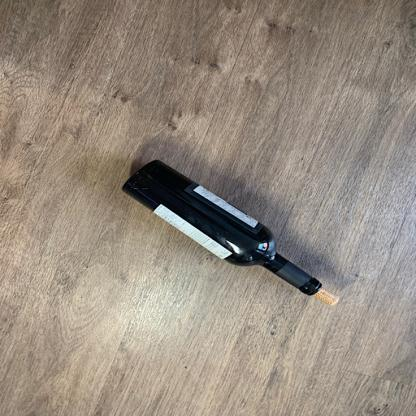trash: (119, 157, 326, 299)
